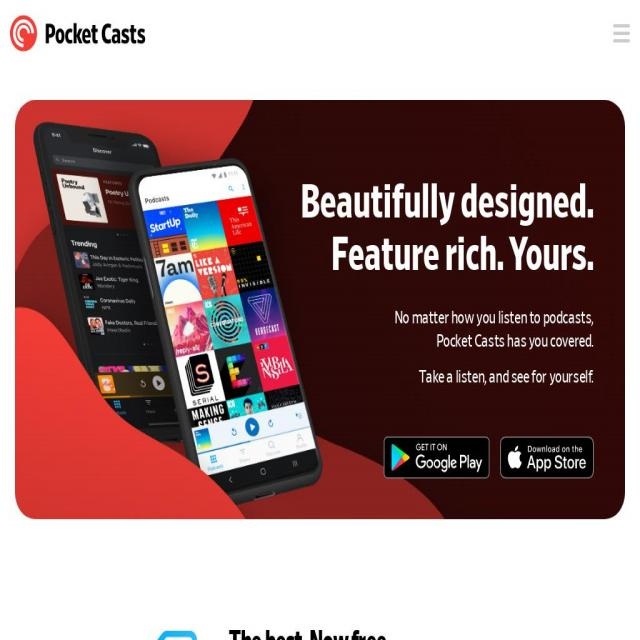options: (610, 15, 635, 52)
